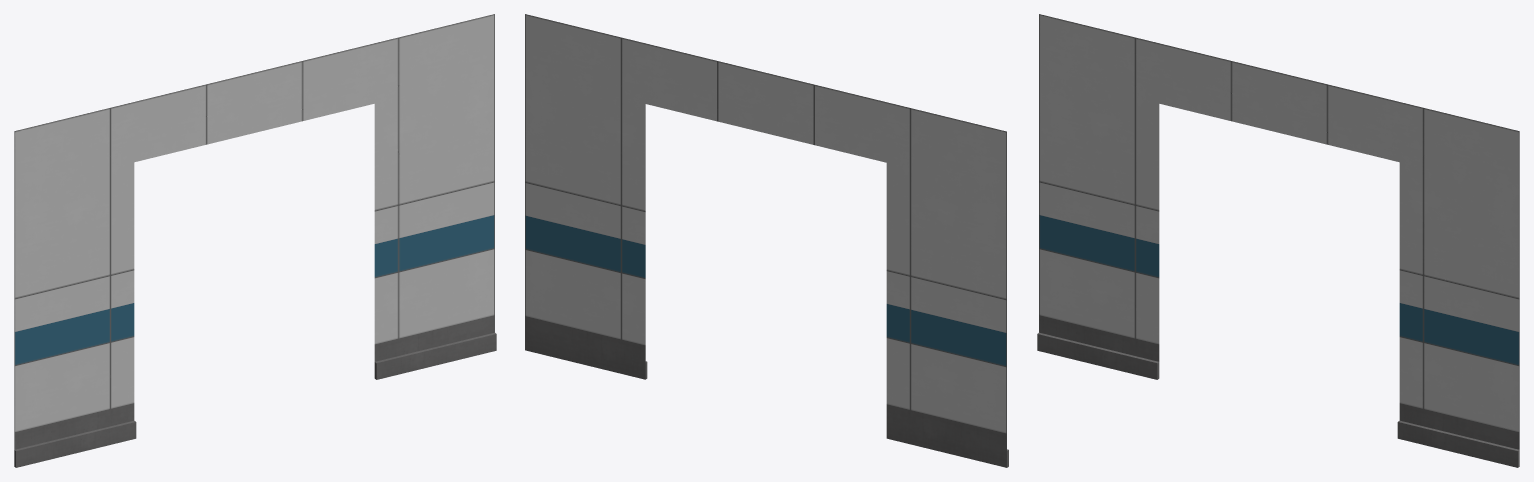
Rendered from SM06_Building_WallPanel_Exterior_02_DoorBottom_02.fbx.
3 renders of one model, left to right at view 1: azimuth 30°, elevation 25°; view 2: azimuth 150°, elevation 25°; view 3: azimuth 330°, elevation 25°, orthographic.
Visible parts, largest first — view 1: SM06_Building_WallPanel_Exterior_02_DoorBottom_02; view 2: SM06_Building_WallPanel_Exterior_02_DoorBottom_02; view 3: SM06_Building_WallPanel_Exterior_02_DoorBottom_02.
Boxes of the visible parts, x1,y1,x2,y2 form: SM06_Building_WallPanel_Exterior_02_DoorBottom_02: (14, 14, 496, 467); SM06_Building_WallPanel_Exterior_02_DoorBottom_02: (525, 14, 1008, 467); SM06_Building_WallPanel_Exterior_02_DoorBottom_02: (1037, 14, 1519, 467).
Bounding box in the file's own units: 15 × 10 × 0.1.
